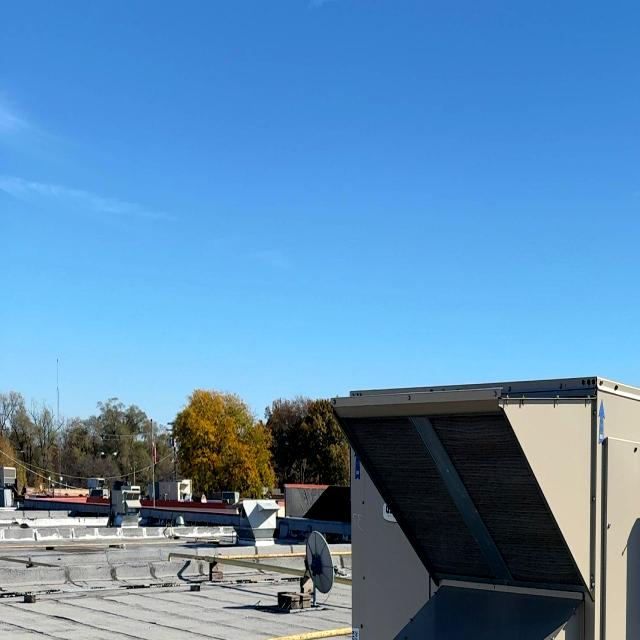RTU: (316, 368, 640, 640), (108, 479, 142, 528)
